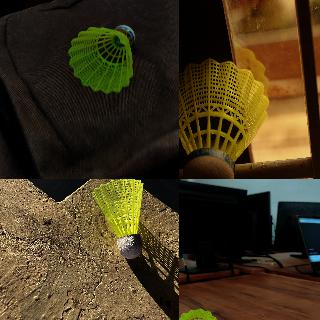shuttlecock: (179, 58, 269, 178), (68, 24, 134, 94), (91, 179, 143, 259), (179, 307, 221, 319)
